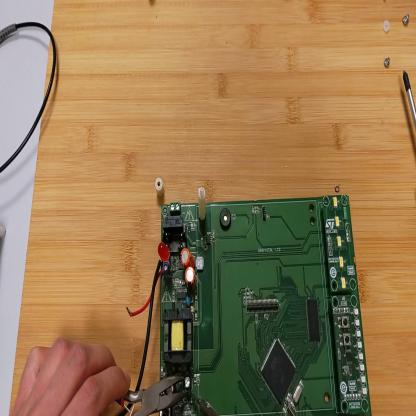hand: (11, 333, 130, 416)
low voltage board: (128, 188, 372, 416)
oscilloscope probe tip: (1, 24, 18, 45)
pliers: (115, 373, 190, 416)
screwdriver-: (402, 69, 416, 129)
working area: (12, 4, 416, 415)
